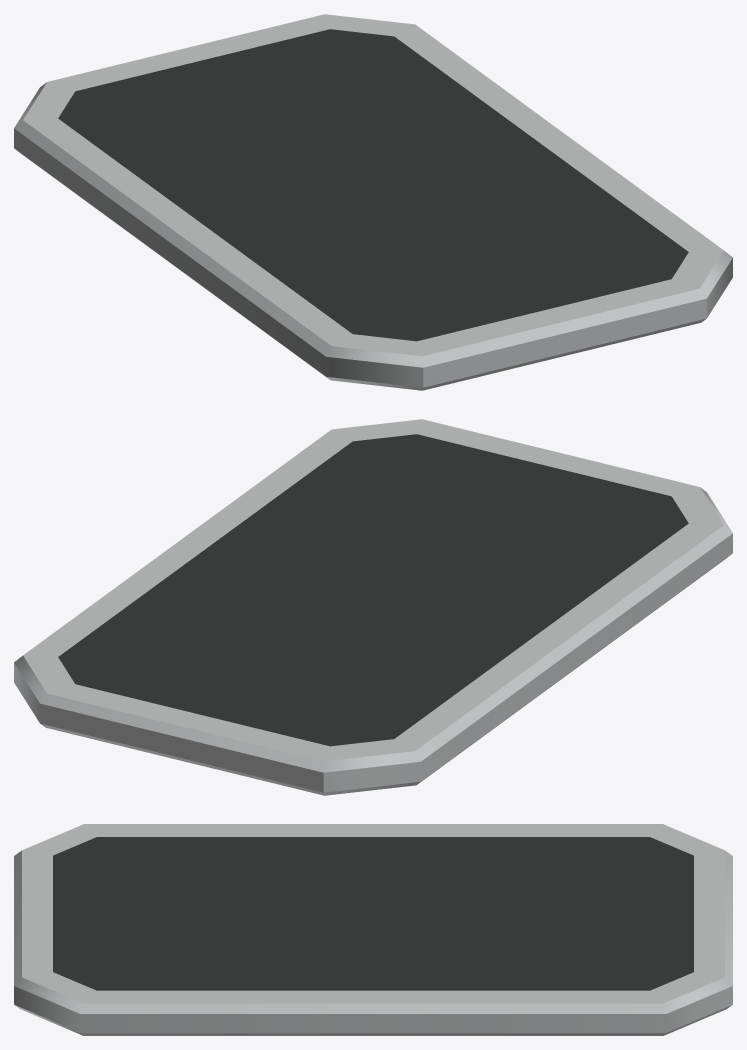
The model's file is Laptop_001_Monitor_001.fbx.
3 renders of one model, top to bottom at view 1: azimuth 30°, elevation 25°; view 2: azimuth 150°, elevation 25°; view 3: azimuth 270°, elevation 25°, orthographic. The views are drawn at different scales.
Parts seen in each view (by area): view 1: Laptop_001_Monitor_001; view 2: Laptop_001_Monitor_001; view 3: Laptop_001_Monitor_001.
Part boxes in pixels (x1=…): Laptop_001_Monitor_001: x1=14, y1=14, x2=732, y2=390; Laptop_001_Monitor_001: x1=14, y1=419, x2=732, y2=795; Laptop_001_Monitor_001: x1=14, y1=824, x2=732, y2=1035.
Size of the model in its own units: 31.16 by 50.85 by 2.46.
